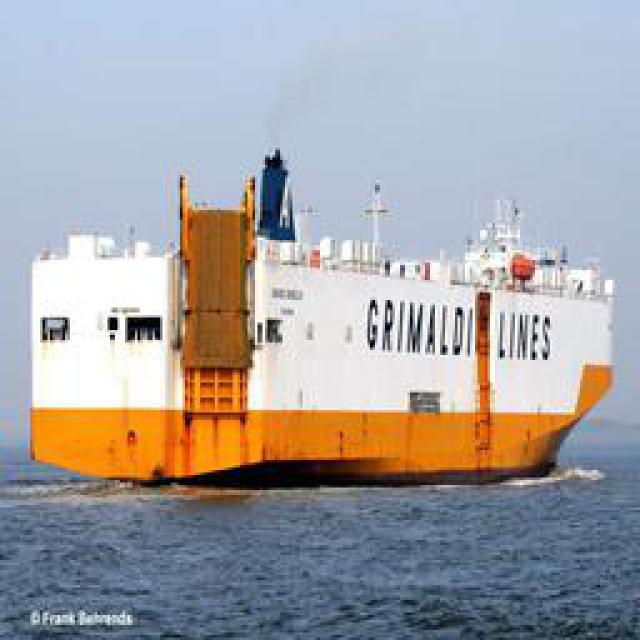Ship: (36, 137, 614, 487)
